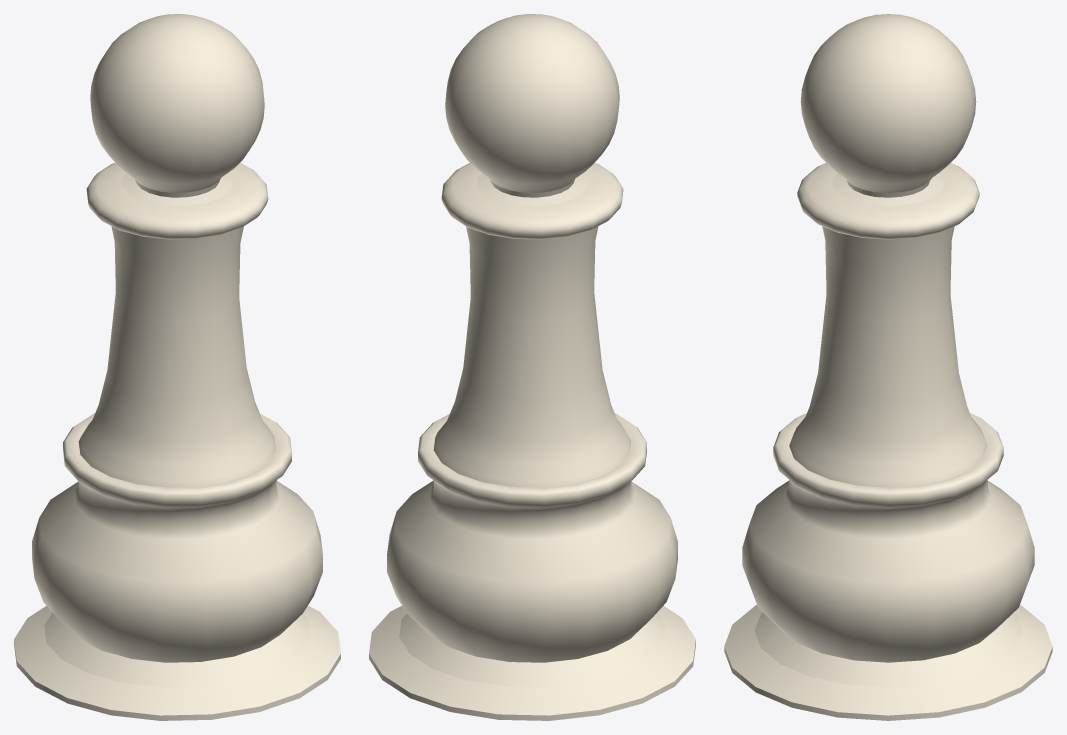
Rendered from white-pawn.glb.
The picture shows the model from 3 angles, left to right: view 1: azimuth 30°, elevation 25°; view 2: azimuth 150°, elevation 25°; view 3: azimuth 270°, elevation 25°; orthographic projection.
Parts seen in each view (by area): view 1: Pawn; view 2: Pawn; view 3: Pawn.
Part boxes in pixels (x1,y1,x2,y2): Pawn: (14,14,340,720); Pawn: (369,14,695,720); Pawn: (724,14,1052,720).
Bounding box in the file's own units: 0.0318 × 0.0672 × 0.0318.
